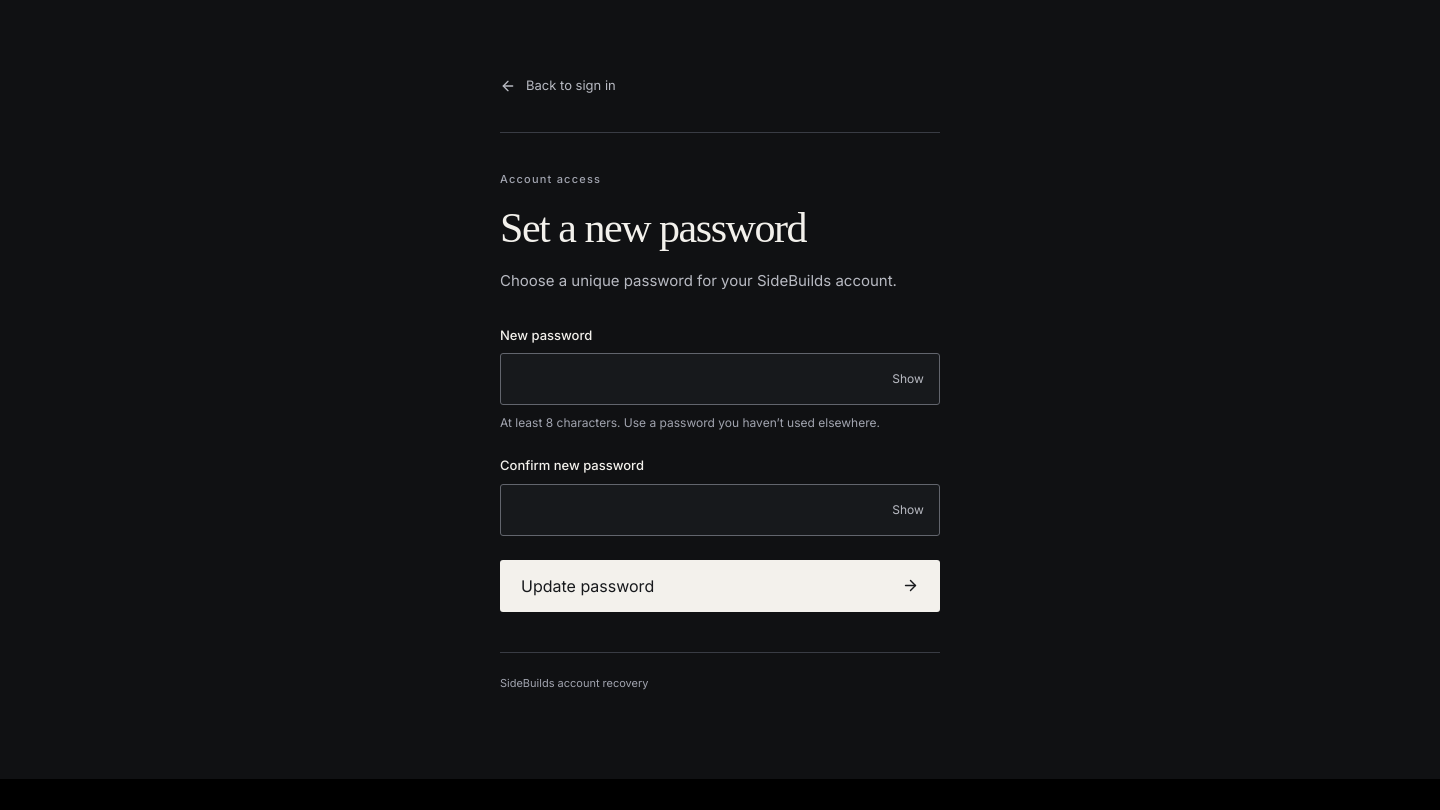
Test: mismatched passwords stay local with focused guidance
The image size is (1440, 810).
Type "Synthetic-password-2026!" into the password field labelled "New password".
click(720, 379); type("Synthetic-password-2026!")  # box [500,353,940,405]
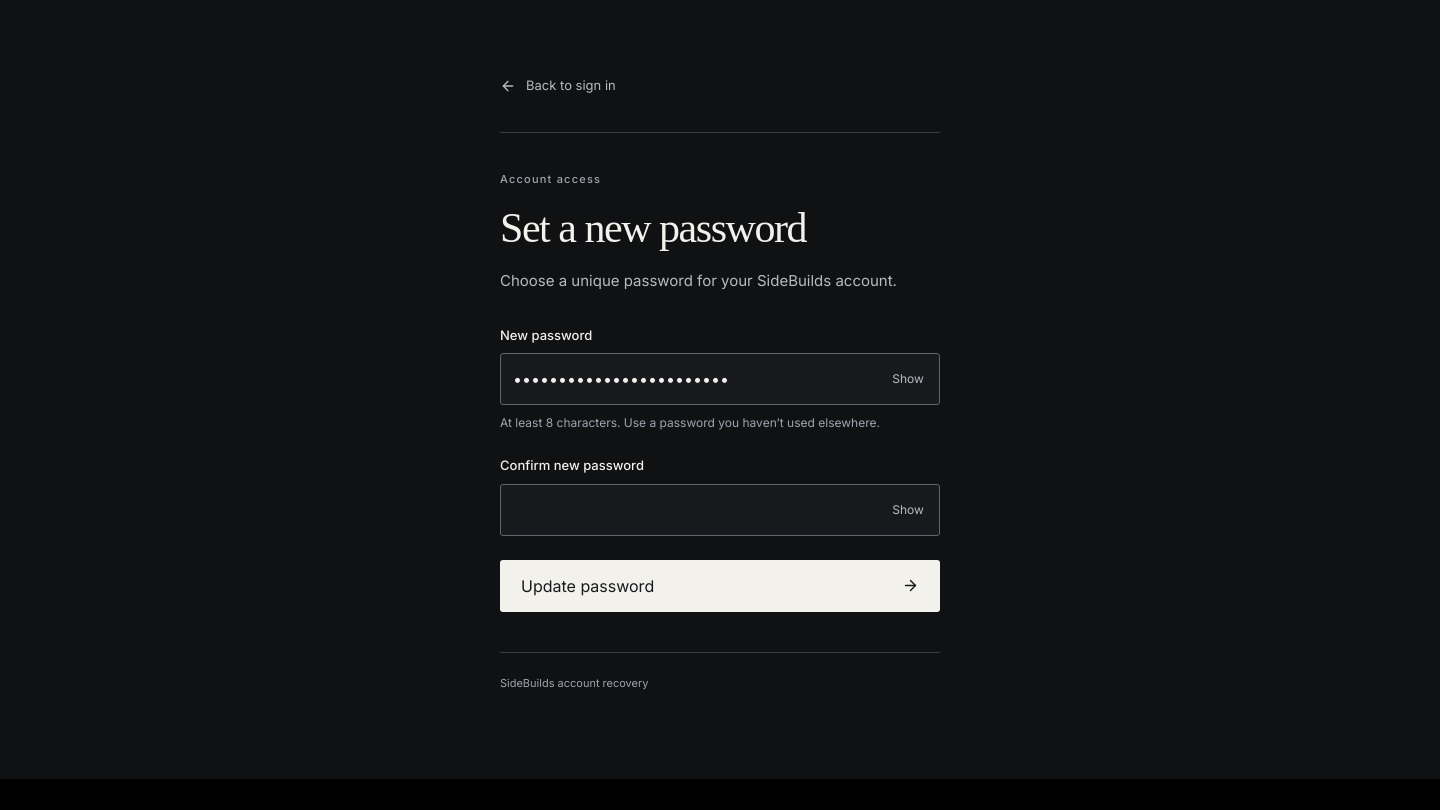
Type "Different-password!" into the password field labelled "Confirm new password".
click(720, 510); type("Different-password!")  # box [500,484,940,536]
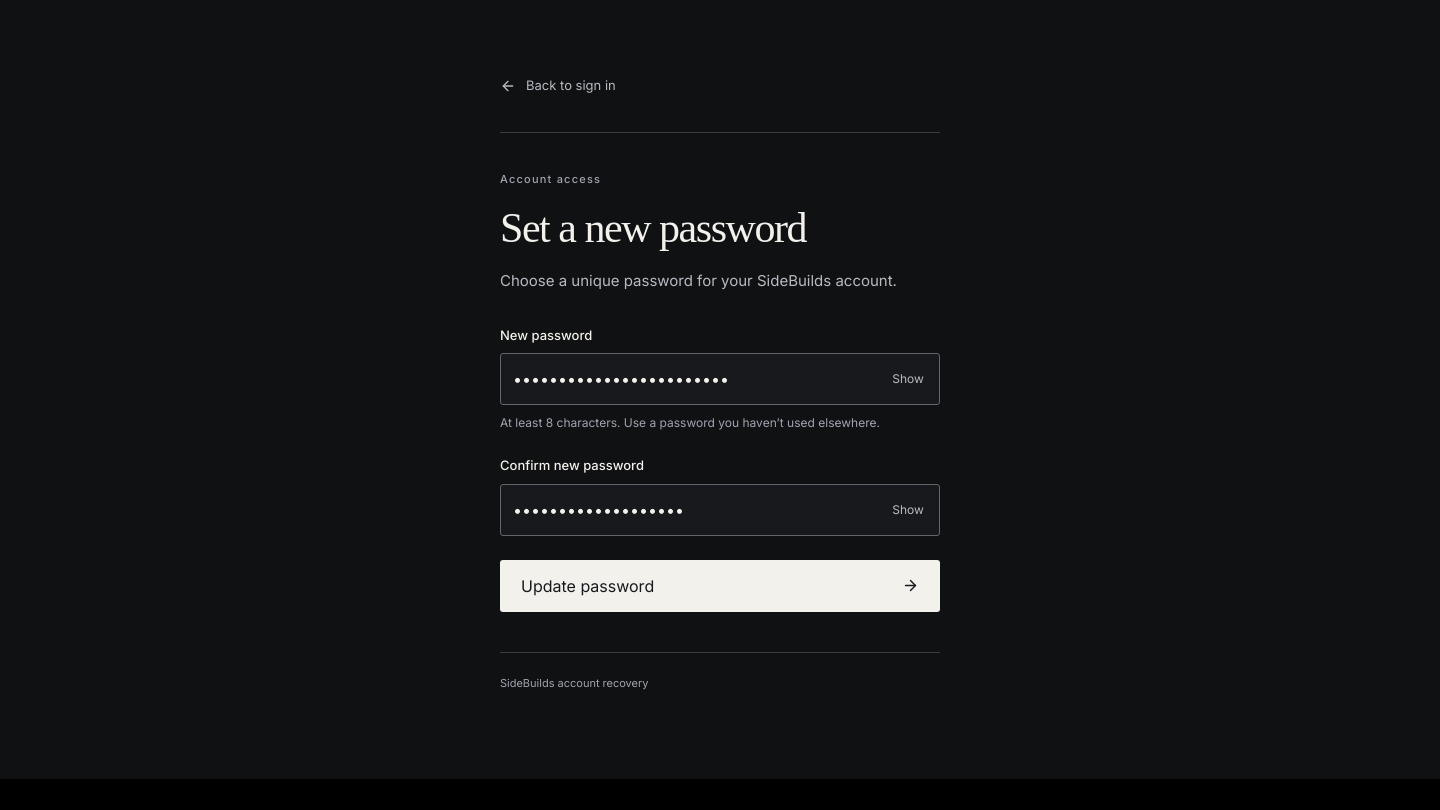
Click the button "Update password".
click(588, 586)  # box [500,560,940,612]
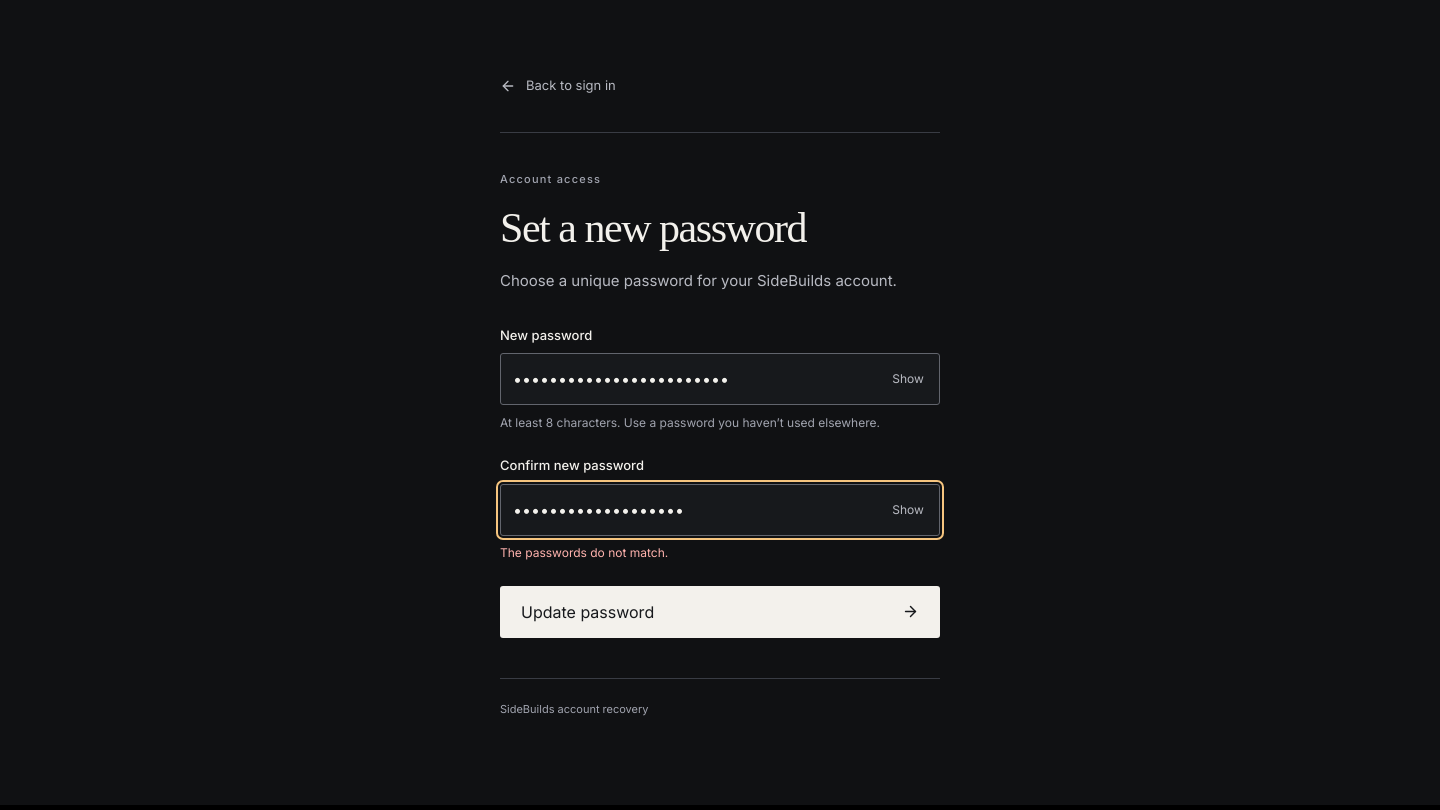
Check: the text "The passwords do not match." is shown, box [500,545,668,560]
